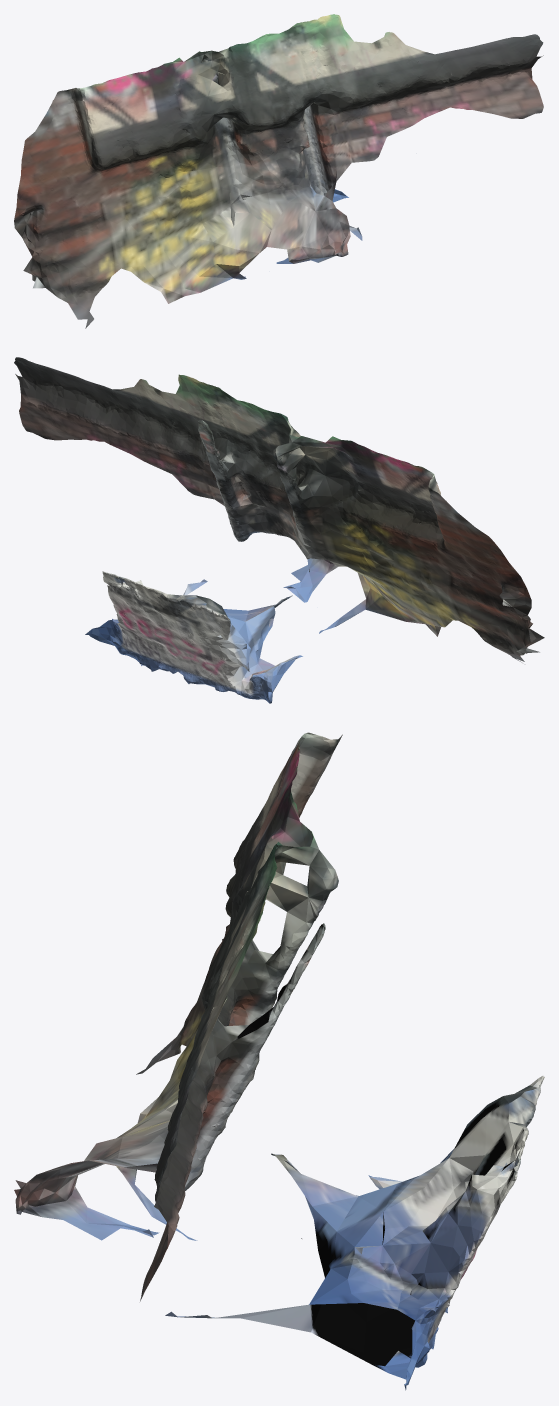
File: Basketball.obj
3 views of the same model, one above another, from view 1: azimuth 30°, elevation 25°; view 2: azimuth 150°, elevation 25°; view 3: azimuth 270°, elevation 25° (orthographic). The views are drawn at different scales.
Parts seen in each view (by area): view 1: TexturedMesh; view 2: TexturedMesh; view 3: TexturedMesh.
Part boxes in pixels (x1,y1,x2,y2): TexturedMesh: (14,14,543,328); TexturedMesh: (14,357,544,703); TexturedMesh: (14,732,544,1390).
Size of the model in its own units: 2.31 by 1.03 by 1.1.
Materials: 1 (1 with a texture image).
